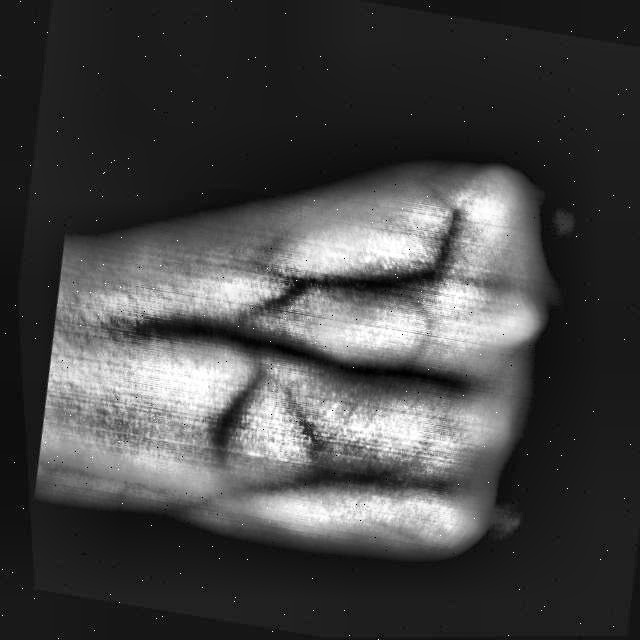Vein: (189, 310, 365, 388)
